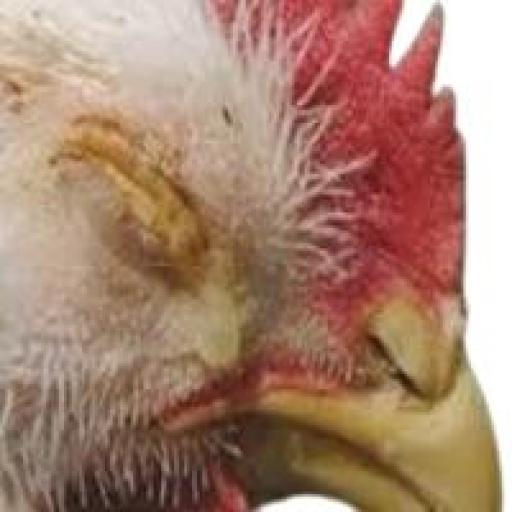disease: (54, 96, 246, 283)
